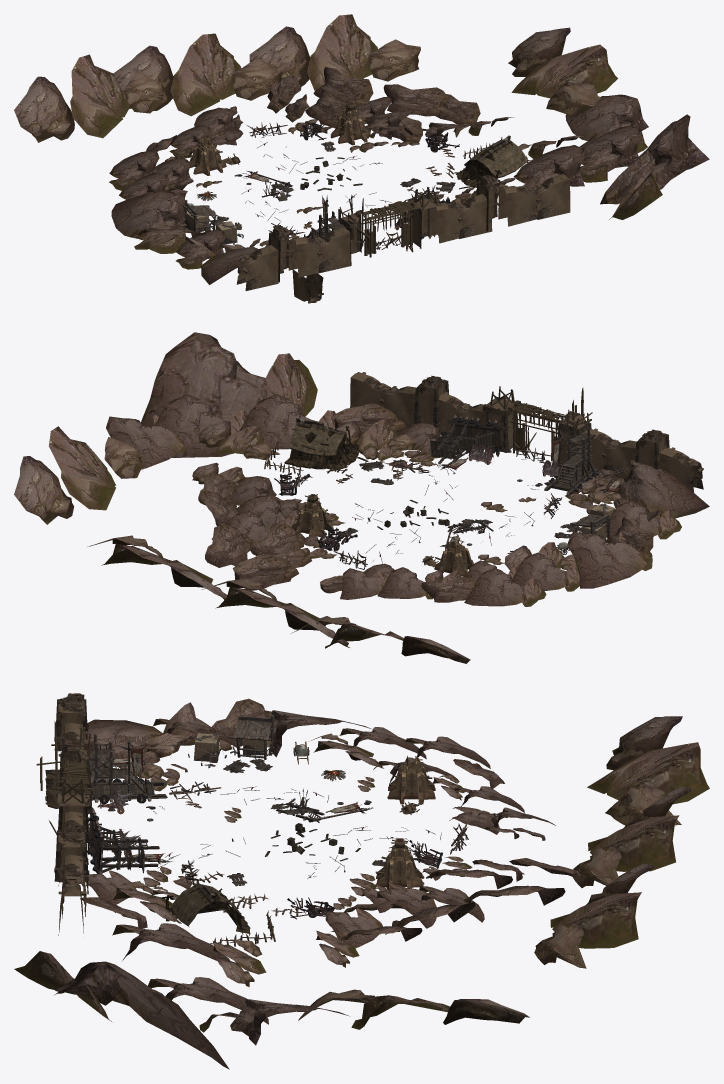
The picture shows the model from 3 angles, top to bottom: view 1: azimuth 30°, elevation 25°; view 2: azimuth 150°, elevation 25°; view 3: azimuth 270°, elevation 25°; orthographic projection. The views are drawn at different scales.
Parts seen in each view (by area): view 1: Combined_Mesh__root__scene_; view 2: Combined_Mesh__root__scene_; view 3: Combined_Mesh__root__scene_.
Part boxes in pixels (x1,y1,x2,y2): Combined_Mesh__root__scene_: [14, 14, 709, 303]; Combined_Mesh__root__scene_: [14, 332, 709, 663]; Combined_Mesh__root__scene_: [14, 693, 709, 1069].
Size of the model in its own units: 104 by 19.57 by 93.46.
Materials: 112 (112 with a texture image).
